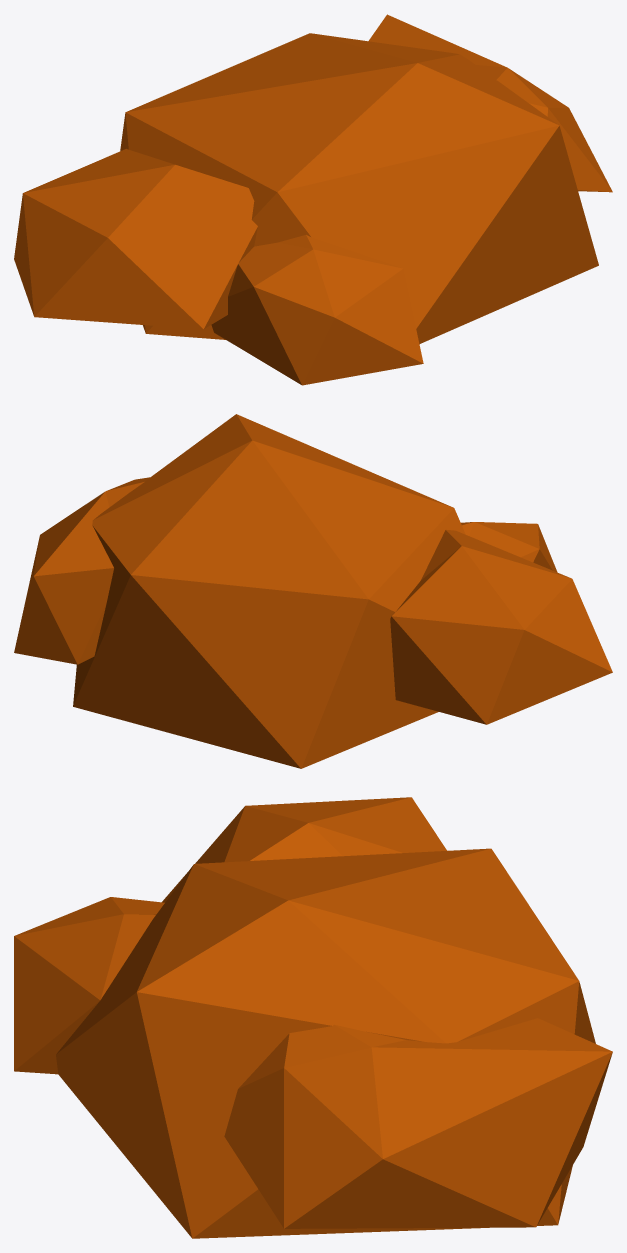
Rendered from RockLarge1.glb.
3 renders of one model, top to bottom at view 1: azimuth 30°, elevation 25°; view 2: azimuth 150°, elevation 25°; view 3: azimuth 270°, elevation 25°, orthographic. The views are drawn at different scales.
Parts seen in each view (by area): view 1: RockLarge1; view 2: RockLarge1; view 3: RockLarge1.
Part boxes in pixels (bbox=[...]): RockLarge1: bbox=[14, 14, 612, 385]; RockLarge1: bbox=[14, 414, 612, 768]; RockLarge1: bbox=[14, 797, 612, 1238].
Bounding box in the file's own units: 1.48 × 0.5515 × 1.09.
